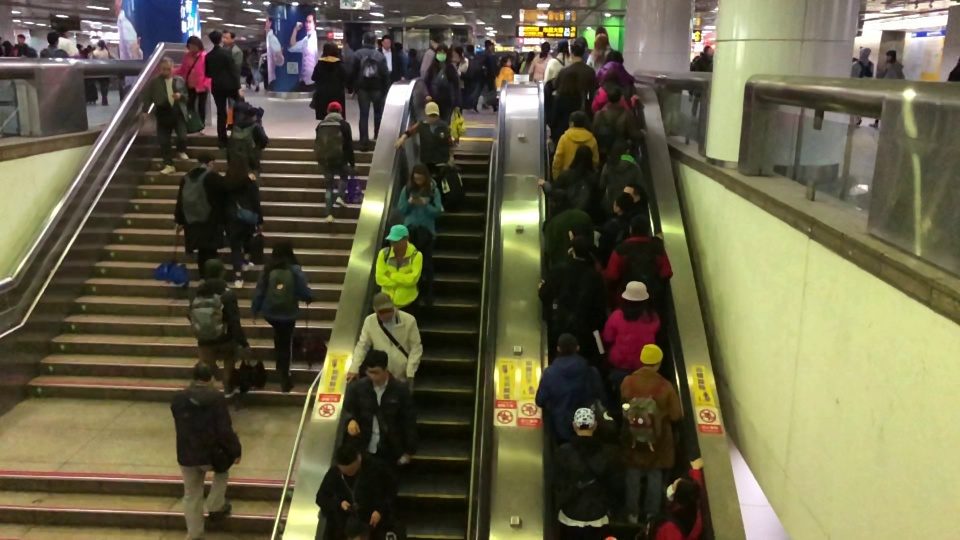person_head: (665, 475, 701, 507), (621, 279, 650, 317), (363, 347, 389, 386), (569, 406, 599, 438), (332, 440, 360, 474), (370, 292, 394, 322), (639, 342, 664, 370), (568, 144, 594, 170), (271, 237, 296, 263), (385, 222, 409, 249), (568, 233, 590, 262), (554, 331, 579, 356), (202, 257, 226, 283), (191, 359, 215, 384), (228, 150, 250, 175), (409, 161, 430, 186), (629, 212, 651, 235), (550, 187, 570, 209), (612, 191, 632, 213), (558, 80, 580, 99), (610, 136, 632, 155), (599, 69, 622, 87), (567, 109, 587, 129), (231, 99, 249, 121), (624, 183, 643, 203), (591, 32, 609, 52), (423, 100, 440, 121), (603, 50, 625, 66), (321, 39, 340, 57), (570, 40, 585, 62), (187, 34, 204, 53), (158, 55, 172, 76), (606, 83, 621, 102), (435, 43, 449, 63), (207, 29, 223, 46), (220, 28, 236, 45), (197, 151, 215, 166), (555, 38, 570, 53), (45, 31, 59, 47), (326, 99, 342, 113), (539, 40, 551, 56), (883, 49, 896, 62), (363, 32, 374, 46), (430, 34, 441, 48), (382, 34, 392, 48), (453, 48, 463, 62), (858, 45, 869, 57), (58, 26, 71, 36), (482, 39, 492, 50), (500, 57, 510, 67), (527, 50, 536, 60), (16, 34, 24, 43), (96, 38, 104, 47), (703, 46, 710, 54), (250, 46, 255, 52), (263, 46, 267, 53)
person_vbox: (169, 358, 242, 539), (618, 343, 684, 525), (250, 236, 313, 394), (186, 257, 251, 399), (551, 405, 616, 540), (600, 280, 662, 421), (342, 350, 417, 466), (315, 438, 399, 540), (343, 290, 423, 385), (533, 332, 602, 440), (535, 233, 608, 332), (394, 161, 442, 309), (394, 101, 456, 211), (174, 149, 225, 279), (221, 151, 264, 290), (141, 53, 190, 174), (593, 212, 673, 286), (314, 100, 355, 223), (349, 32, 390, 153), (203, 29, 242, 150), (374, 222, 424, 314), (541, 187, 596, 266), (536, 144, 601, 210), (654, 455, 705, 539), (172, 34, 211, 138), (219, 99, 270, 175), (601, 191, 664, 250), (593, 84, 645, 152), (310, 39, 352, 121), (550, 109, 599, 179), (600, 136, 646, 205), (423, 44, 463, 122), (870, 48, 905, 131), (547, 79, 591, 143), (555, 39, 597, 103), (589, 70, 640, 113), (219, 27, 245, 108), (851, 43, 873, 126), (89, 39, 116, 106), (472, 41, 496, 112), (690, 46, 713, 118), (596, 50, 636, 87), (543, 38, 572, 83), (378, 33, 402, 81), (452, 47, 469, 113), (48, 24, 80, 59), (418, 31, 442, 75), (586, 32, 611, 70), (529, 40, 551, 82), (40, 31, 67, 59), (495, 56, 515, 87), (248, 48, 261, 89), (13, 33, 32, 59), (259, 44, 268, 90)
